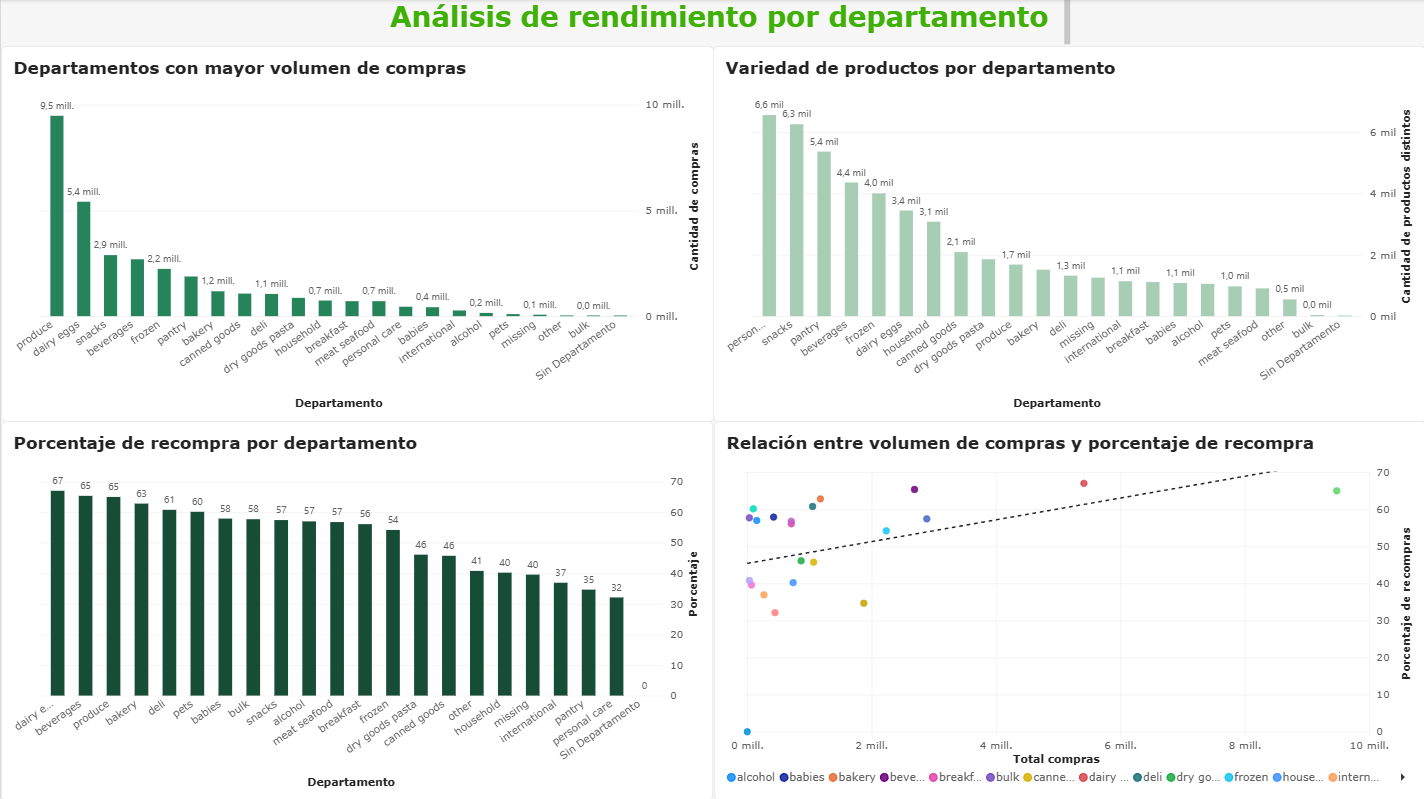

The page's visual inventory and layout, read from the dashboard file:
{"tool":"powerbi","page":{"name":"Departamento","canvas":[1920,1080],"ordinal":0},"visuals":[{"type":"columnChart","title":"Departamentos con mayor volumen de compras","fields":{"Category":["public mart_department_performance (3).departamento"],"Y":["Sum(public mart_department_performance (3).total_compras)"]},"box":[0,62.9,960.7,505.8],"z":0},{"type":"columnChart","title":"Porcentaje de recompra por departamento","fields":{"Category":["public mart_department_performance (3).departamento"],"Y":["Avg(public mart_department_performance (3).porcentaje_recompra)"]},"box":[0,568.7,959.3,511.8],"z":1000},{"type":"columnChart","title":"Variedad de productos por departamento","fields":{"Category":["public mart_department_performance (3).departamento"],"Y":["Sum(public mart_department_performance (3).productos_distintos)"]},"box":[959.3,62.9,960.7,505.8],"z":2000},{"type":"scatterChart","title":"Relación entre volumen de compras y porcentaje de recompra","fields":{"Series":["public mart_department_performance (3).departamento"],"X":["public mart_department_performance (3).total_compras"],"Y":["public mart_department_performance (3).porcentaje_recompra"]},"box":[960.7,568.7,959.3,511.8],"z":3000},{"type":"textbox","box":[100,100,300,300],"z":4000},{"type":"textbox","box":[523.8,0,915.7,63.3],"z":5000}]}

Visuals, with their boxes in screenshot pixels (x1, y1, x2, y2), scaled from the page's 1920x1080 canvas onto the 1424x799 screenshot:
"Departamentos con mayor volumen de compras" columnChart: left=0, top=47, right=713, bottom=421
"Porcentaje de recompra por departamento" columnChart: left=0, top=421, right=711, bottom=798
"Variedad de productos por departamento" columnChart: left=711, top=47, right=1423, bottom=421
"Relación entre volumen de compras y porcentaje de recompra" scatterChart: left=713, top=421, right=1423, bottom=798
textbox: left=74, top=74, right=297, bottom=296
textbox: left=388, top=0, right=1068, bottom=47
